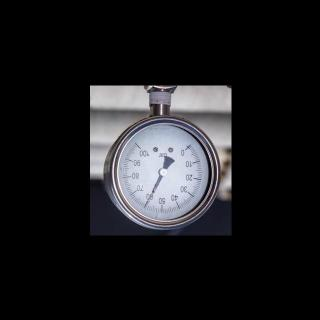gauge: (106, 113, 221, 235), (132, 138, 146, 155), (179, 141, 193, 157), (159, 168, 167, 176), (149, 191, 155, 199)
